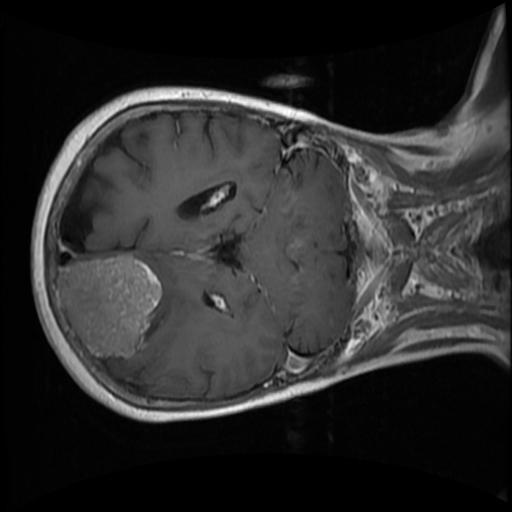meningioma: (54, 254, 164, 359)
